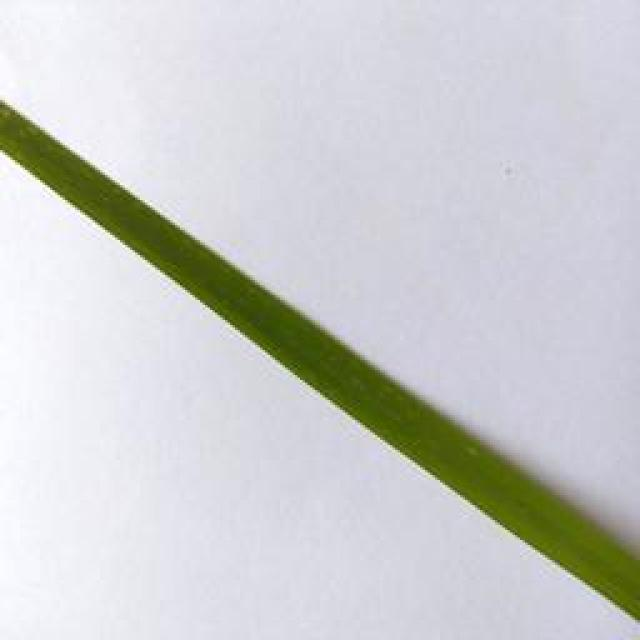Healthy-Plant: (0, 95, 640, 615)
